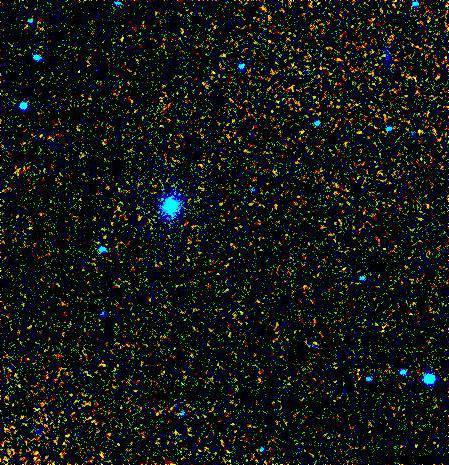star: (199, 55, 229, 85)
